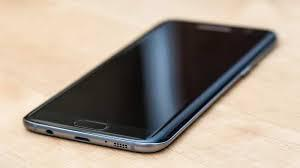Smartphone: (32, 8, 284, 146)
